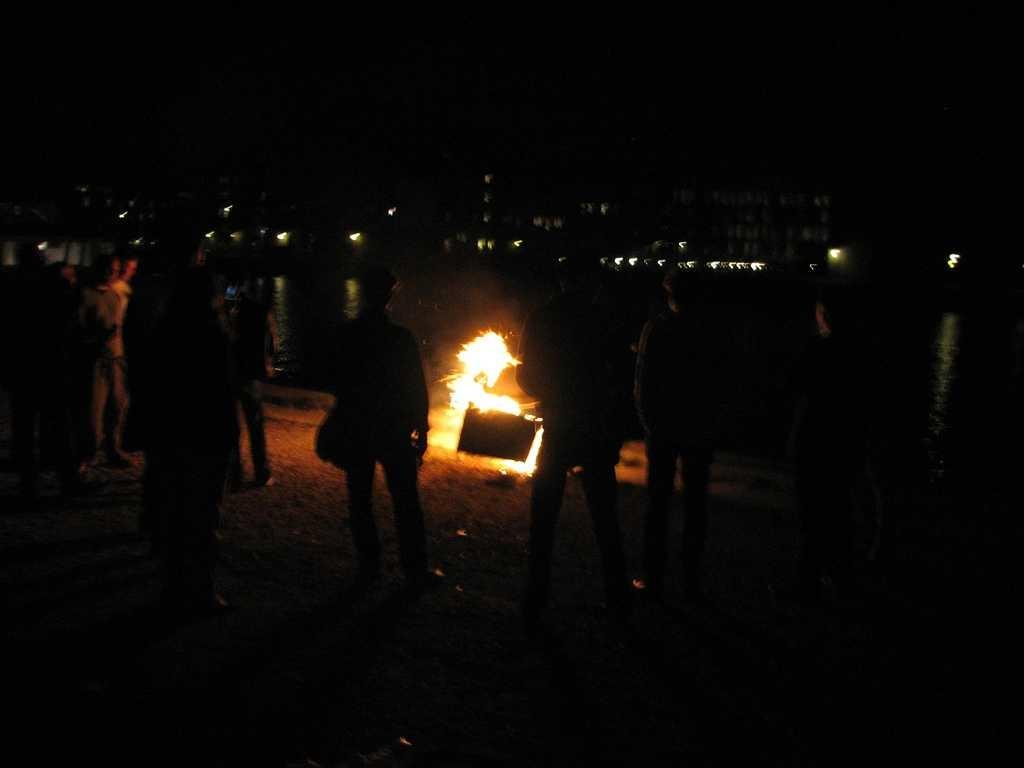fire: (462, 334, 526, 414)
